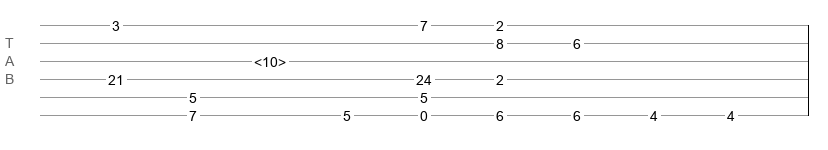0: (420, 108, 428, 118)
2: (496, 72, 504, 82), (496, 18, 504, 28)
21: (108, 72, 124, 82)
24: (416, 72, 432, 82)
3: (112, 18, 120, 28)
4: (650, 108, 658, 118), (727, 108, 735, 118)
5: (189, 90, 197, 100), (343, 108, 351, 118), (420, 90, 428, 100)
6: (496, 108, 504, 118), (573, 108, 581, 118), (573, 36, 581, 46)
7: (189, 108, 197, 118), (420, 18, 428, 28)
8: (496, 36, 504, 46)
harmonic: (254, 54, 286, 64)
